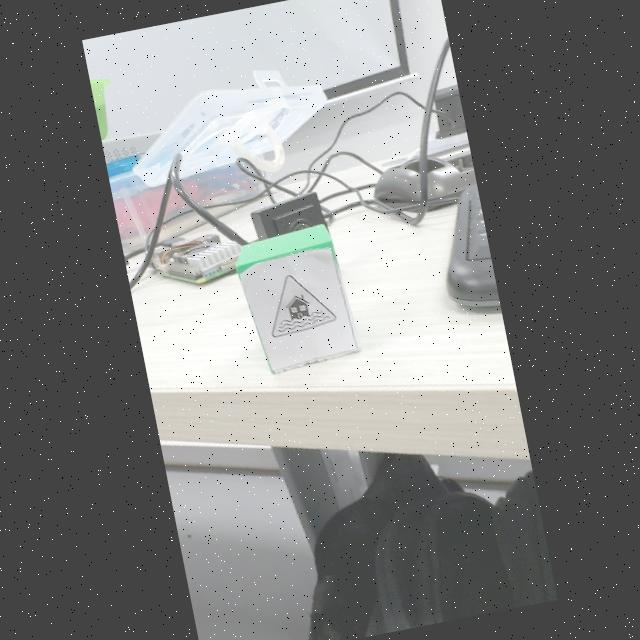Tsunami: (272, 275, 336, 338)
